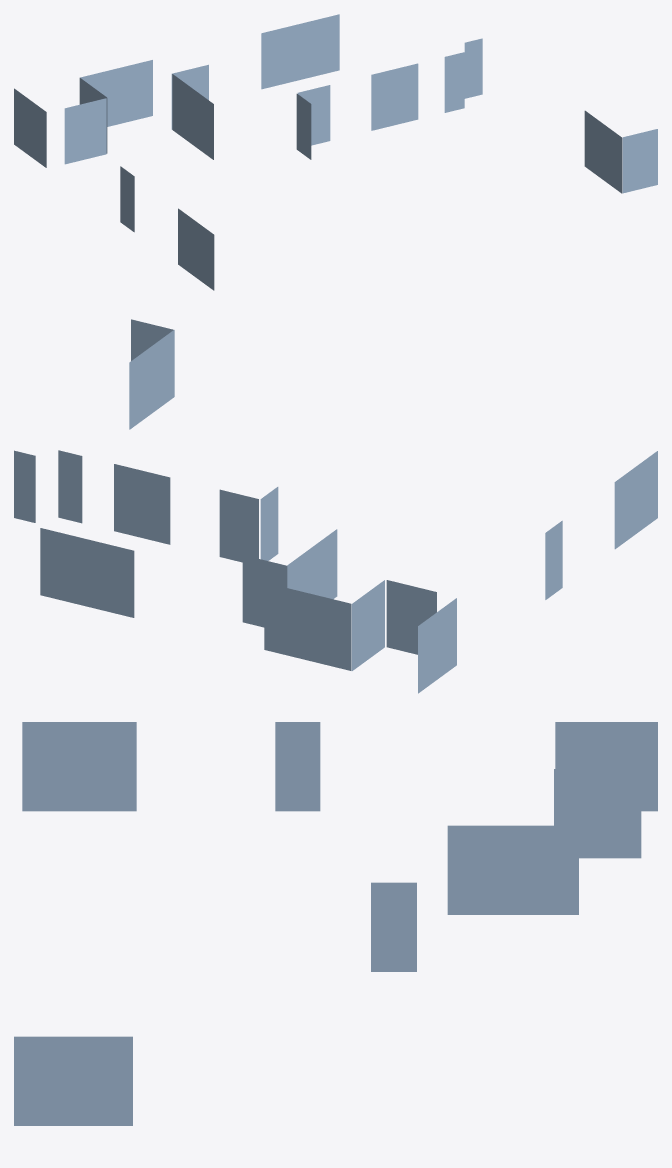
Rendered from Windows_Glass.fbx.
3 renders of one model, top to bottom at view 1: azimuth 30°, elevation 25°; view 2: azimuth 150°, elevation 25°; view 3: azimuth 270°, elevation 25°, orthographic. The views are drawn at different scales.
Parts seen in each view (by area): view 1: polySurface13, polySurface3, polySurface24, polySurface6, polySurface11, polySurface29, polySurface18, polySurface32, polySurface10, polySurface19, polySurface25, polySurface28 (+4 smaller); view 2: polySurface14, polySurface4, polySurface23, polySurface29, polySurface18, polySurface5, polySurface10, polySurface20, polySurface11, polySurface8, polySurface2, polySurface26 (+4 smaller); view 3: polySurface12, polySurface30, polySurface17, polySurface7, polySurface9, polySurface16, polySurface21.
Part boxes in pixels (x1,y1,x2,y2): polySurface13: (261, 14, 339, 89); polySurface3: (81, 60, 152, 126); polySurface24: (371, 63, 418, 130); polySurface6: (65, 98, 106, 164); polySurface11: (172, 74, 213, 159); polySurface29: (584, 111, 621, 193); polySurface18: (178, 209, 213, 290); polySurface32: (622, 129, 657, 193); polySurface10: (14, 89, 46, 167); polySurface19: (298, 85, 330, 145); polySurface25: (445, 52, 464, 112); polySurface28: (464, 38, 482, 98); polySurface14: (40, 528, 133, 617); polySurface4: (264, 582, 351, 670); polySurface23: (114, 464, 170, 544); polySurface29: (129, 330, 174, 429); polySurface18: (615, 451, 657, 549); polySurface5: (386, 580, 436, 654); polySurface10: (418, 598, 456, 693); polySurface20: (219, 490, 258, 562); polySurface11: (287, 529, 337, 599); polySurface8: (352, 580, 384, 670); polySurface2: (242, 555, 287, 627); polySurface26: (58, 450, 82, 523); polySurface12: (447, 826, 578, 914); polySurface30: (14, 1037, 132, 1125); polySurface17: (22, 722, 136, 811); polySurface7: (554, 769, 641, 858); polySurface9: (555, 722, 657, 811); polySurface16: (275, 722, 320, 811); polySurface21: (371, 883, 416, 971).
Size of the model in its own units: 2294 by 278 by 1822.
